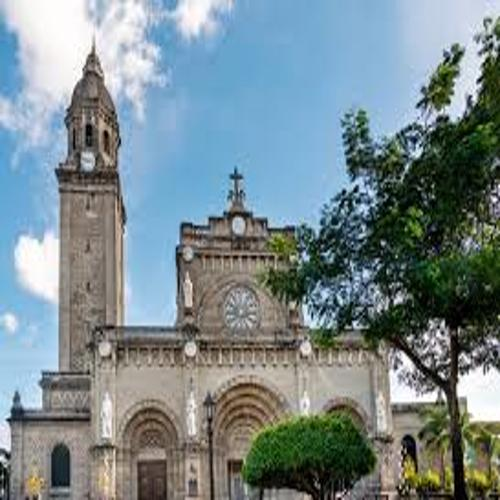Manila Cathedral Church: (9, 26, 408, 500)
